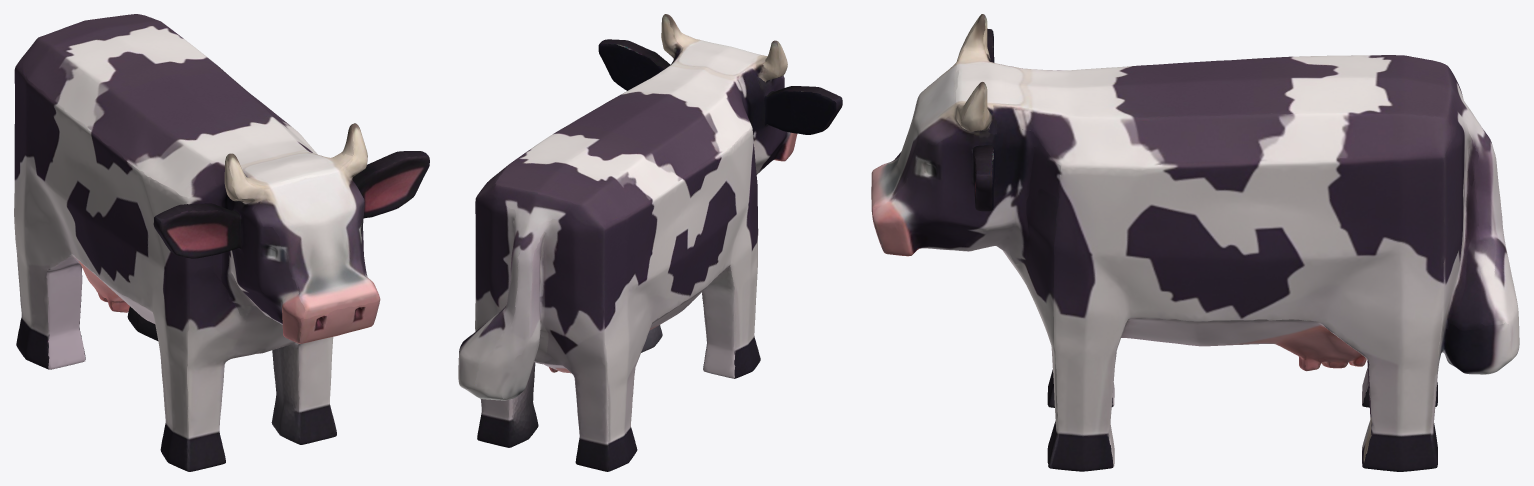
The model's file is vaca.glb.
The picture shows the model from 3 angles, left to right: view 1: azimuth 30°, elevation 25°; view 2: azimuth 150°, elevation 25°; view 3: azimuth 270°, elevation 25°; orthographic projection. The views are drawn at different scales.
Parts seen in each view (by area): view 1: world; view 2: world; view 3: world.
Boxes of the visible parts, x1,y1,x2,y2 form: world: [14, 14, 429, 471]; world: [458, 14, 842, 471]; world: [871, 14, 1519, 471].
Size of the model in its own units: 0.538 by 0.6409 by 0.9899.
Materials: 1 (1 with a texture image).
